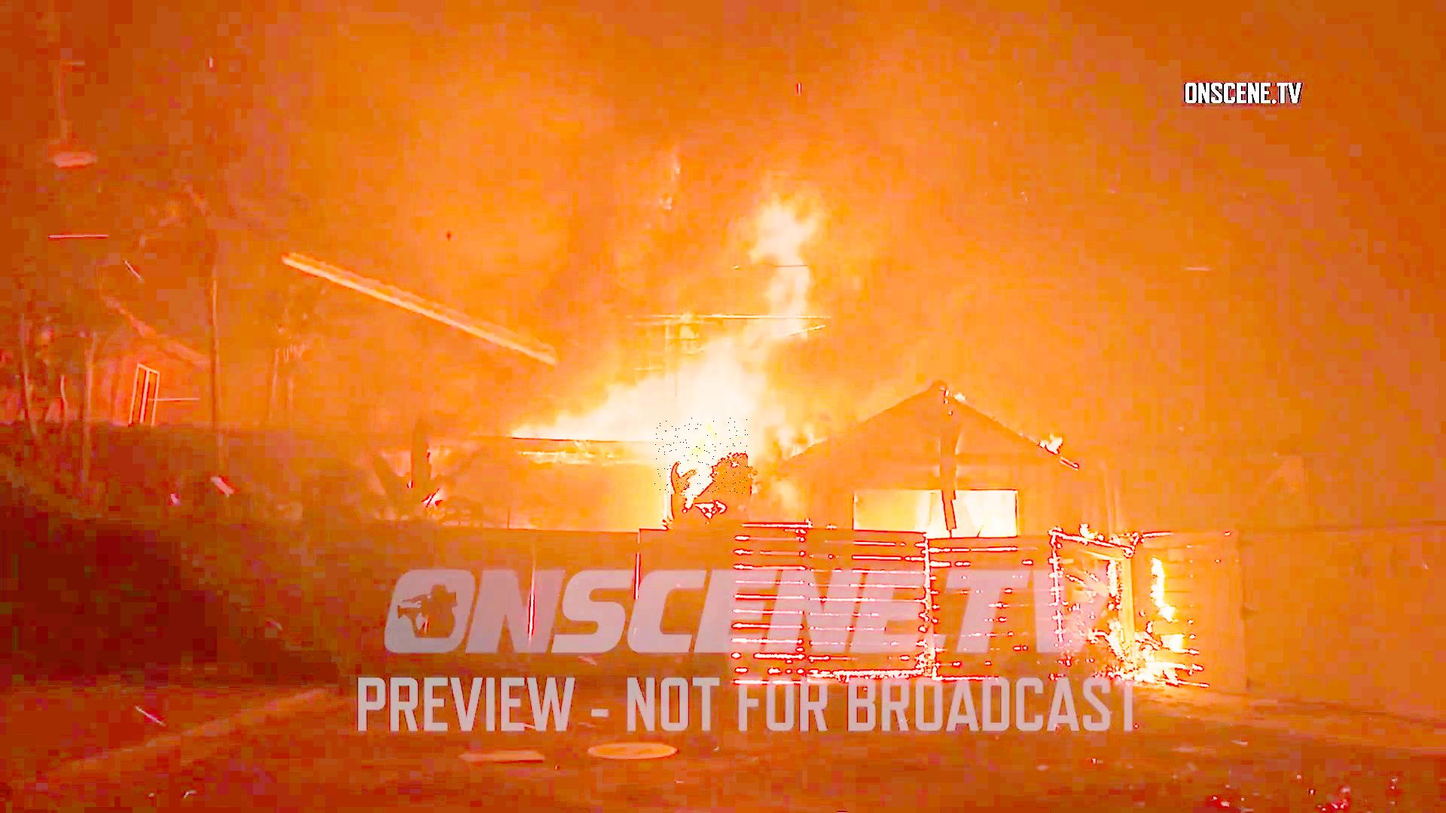fire: (654, 418, 748, 496)
